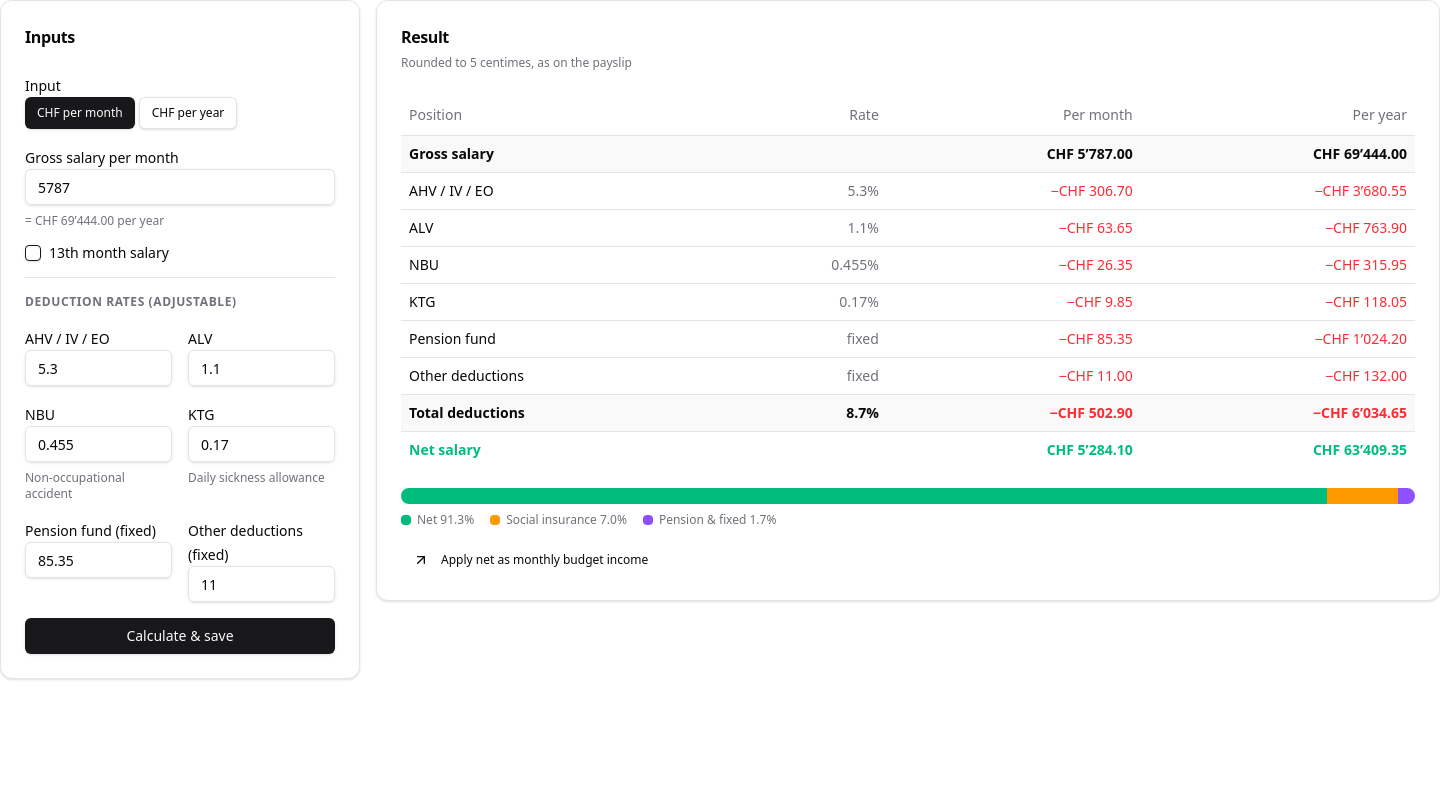
Test: SalaryTab › recomputes the yearly gross from an edited monthly value when switching to yearly mode
This screenshot has width=1440, height=810.
Step 1. Replace the text in the number field labelled "Gross salary per month" with "6000" → point(180, 187), box x1=25 y1=169 x2=335 y2=205
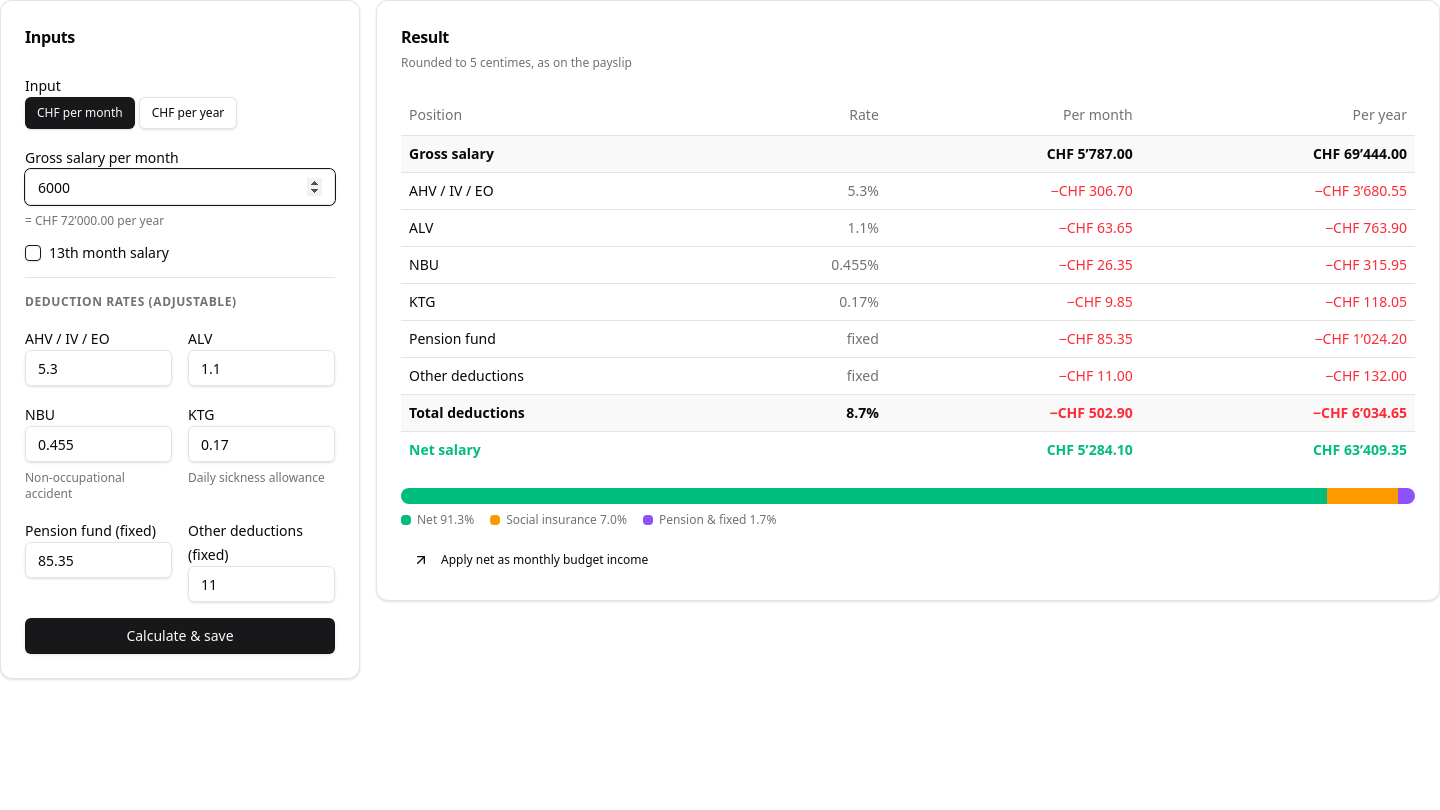
Step 2. Click the button "CHF per year" → point(188, 113), box x1=139 y1=97 x2=237 y2=129
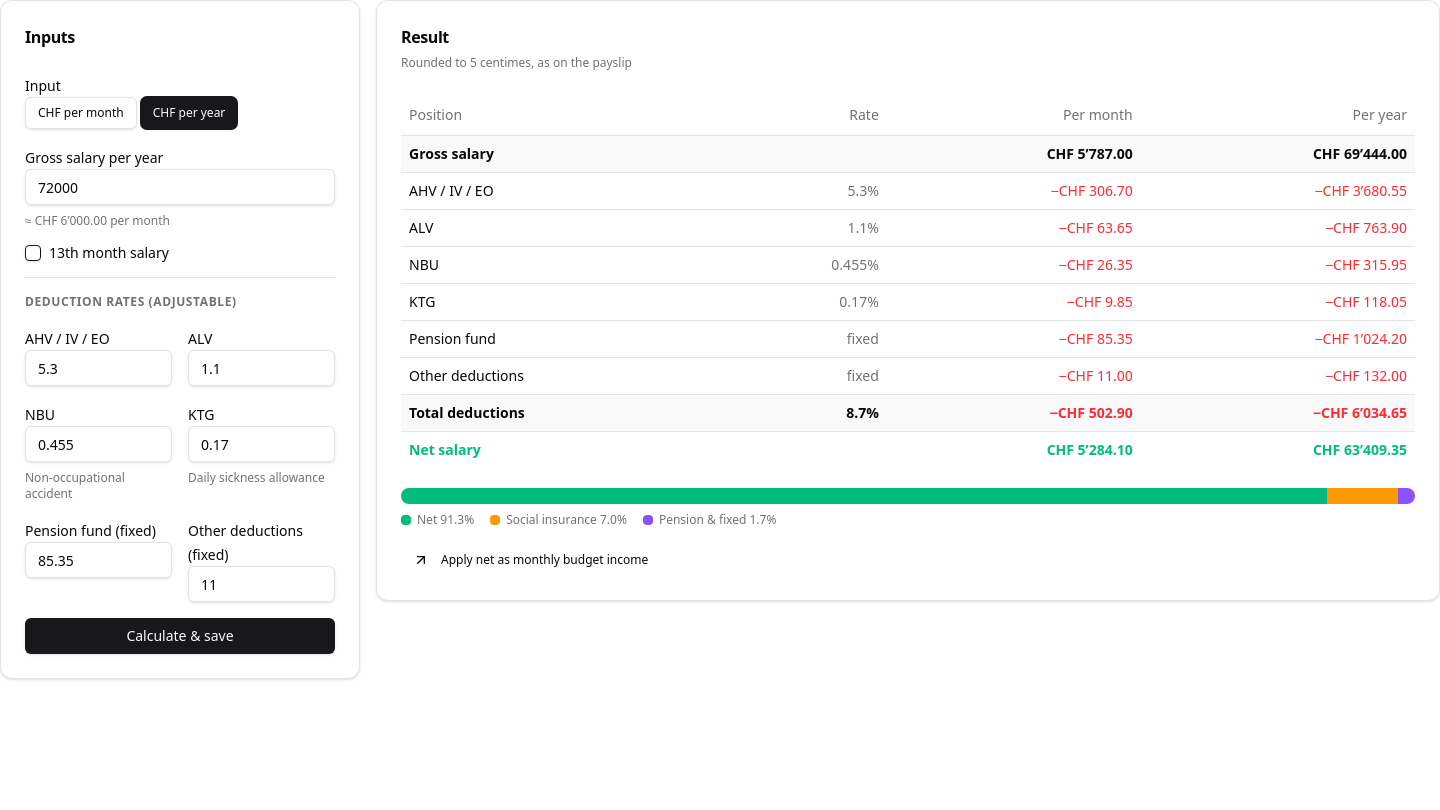
Now the number field labelled "Gross salary per year" holds "72000", box x1=25 y1=169 x2=335 y2=205
